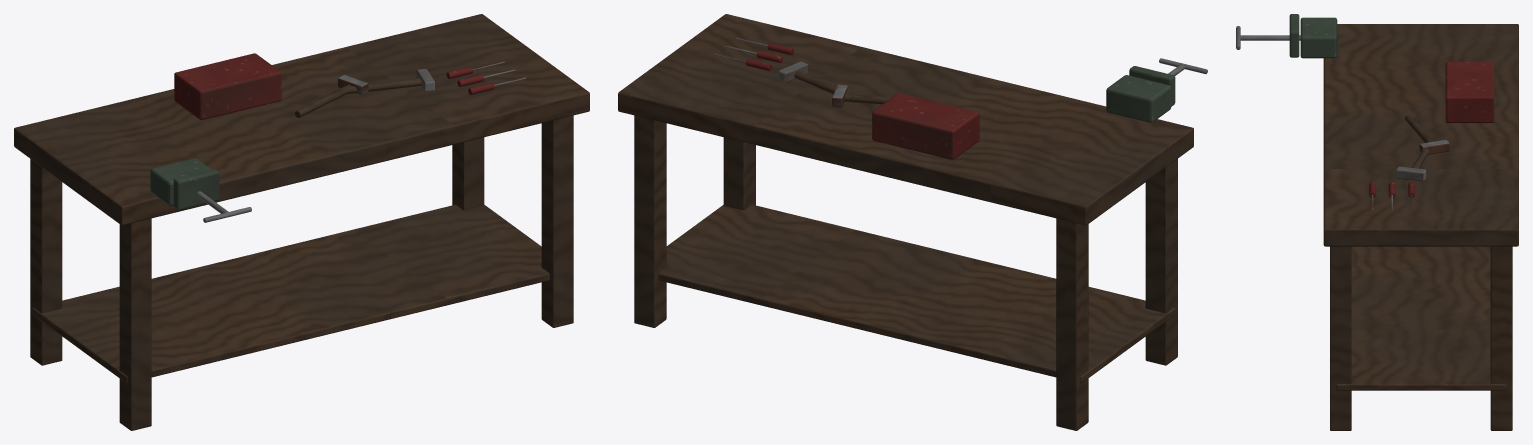
File: F10_workbench_tools.glb
The picture shows the model from 3 angles, left to right: view 1: azimuth 30°, elevation 25°; view 2: azimuth 150°, elevation 25°; view 3: azimuth 270°, elevation 25°; orthographic projection. The views are drawn at different scales.
Visible parts, largest first — view 1: F10_workbench_tools; view 2: F10_workbench_tools; view 3: F10_workbench_tools.
Part boxes in pixels (x1=…): F10_workbench_tools: x1=14, y1=14, x2=589, y2=430; F10_workbench_tools: x1=618, y1=14, x2=1207, y2=430; F10_workbench_tools: x1=1236, y1=14, x2=1518, y2=430.
Bounding box in the file's own units: 2 × 1.06 × 1.16.
5 materials, 5 textured.
